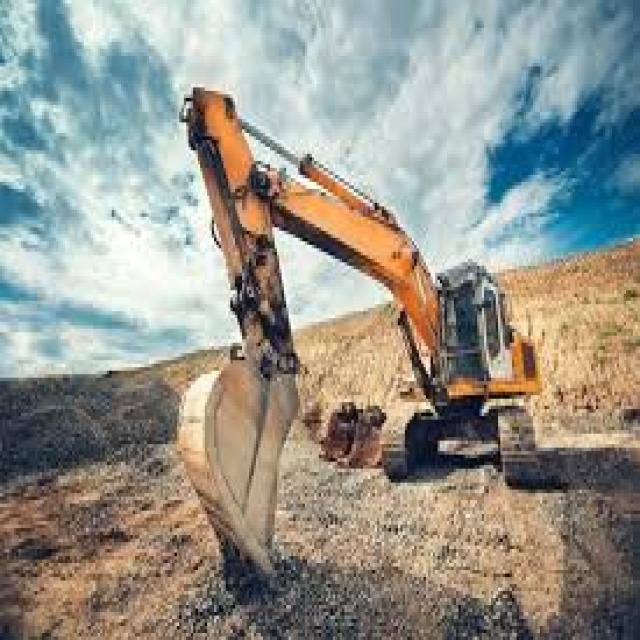excavator: (162, 79, 557, 599)
